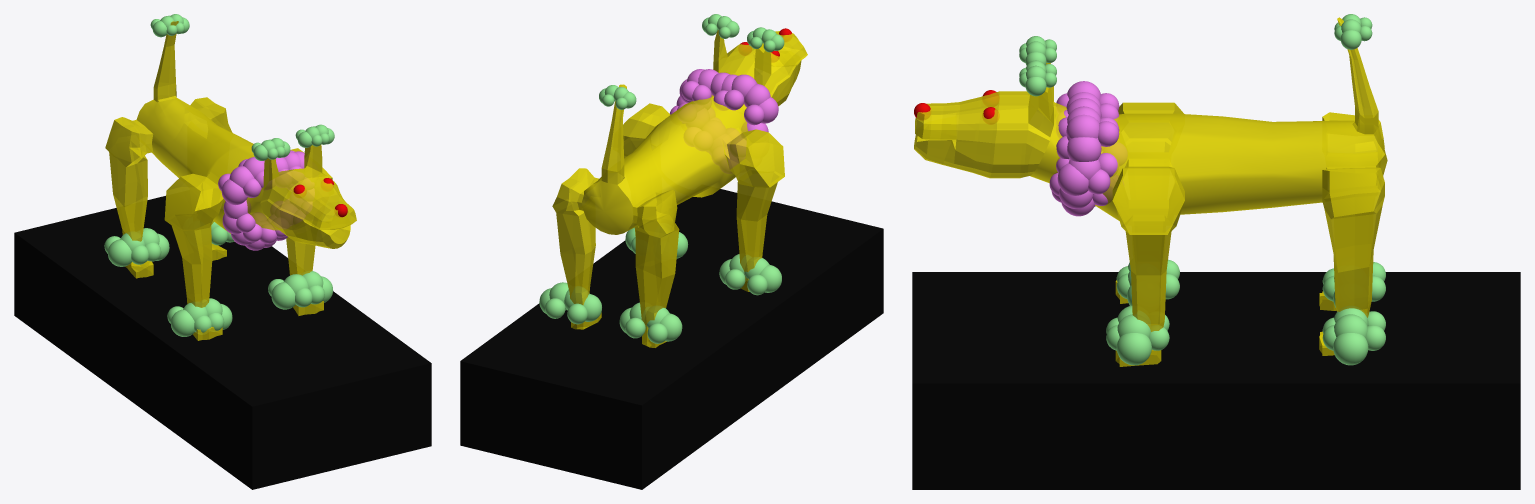
Rendered from poodlestatue.fbx.
3 views of the same model, side by side, from view 1: azimuth 30°, elevation 25°; view 2: azimuth 150°, elevation 25°; view 3: azimuth 270°, elevation 25° (orthographic). The views are drawn at different scales.
Parts seen in each view (by area): view 1: Dog; view 2: Dog; view 3: Dog.
Part boxes in pixels (x1,y1,x2,y2): Dog: [14, 14, 431, 489]; Dog: [460, 14, 883, 489]; Dog: [912, 14, 1520, 489].
Bounding box in the file's own units: 4.69 × 8.16 × 10.78.
